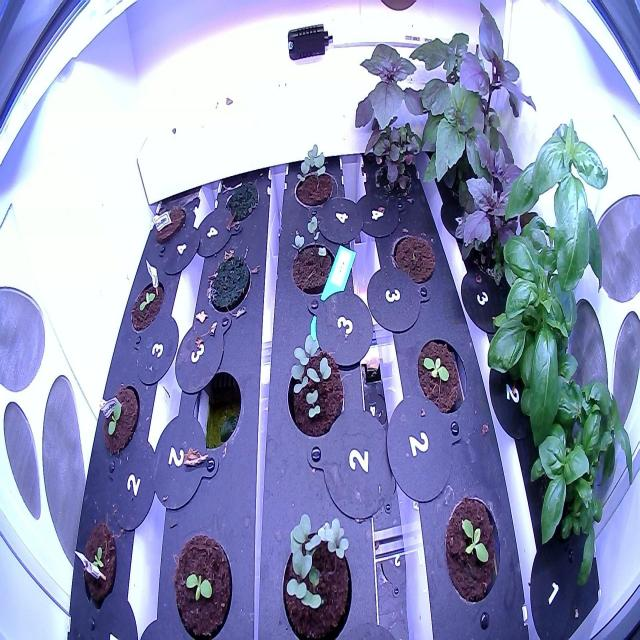empty_pod: (186, 364, 243, 453)
germination: (168, 522, 238, 638), (285, 213, 343, 299), (76, 521, 126, 612), (96, 380, 143, 466), (288, 139, 342, 209), (128, 272, 170, 338)
pod: (388, 225, 438, 292), (150, 195, 189, 249)
young: (440, 490, 504, 610), (411, 330, 470, 422)
